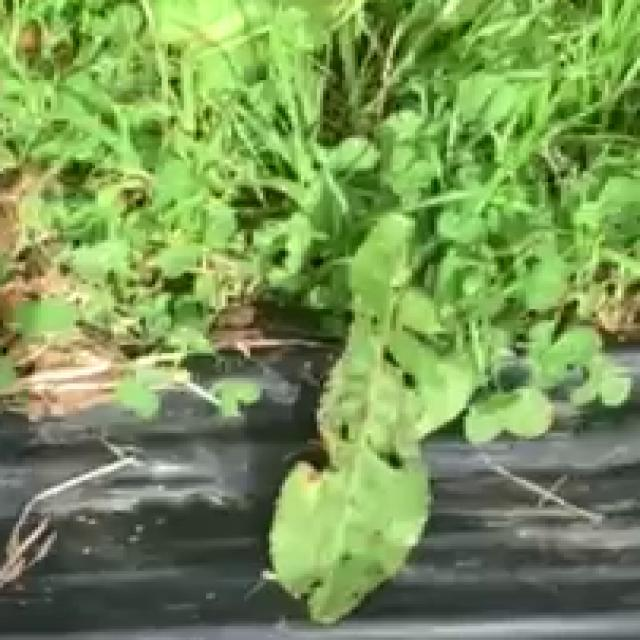organic waste: (270, 96, 532, 624)
